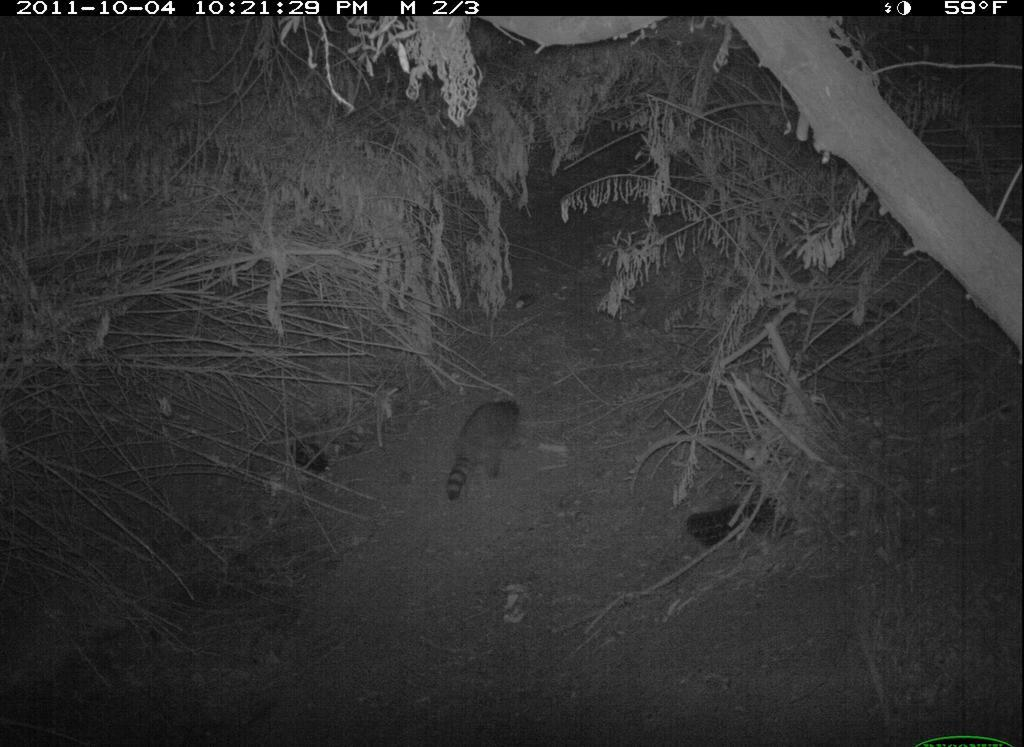raccoon: (445, 393, 525, 506)
